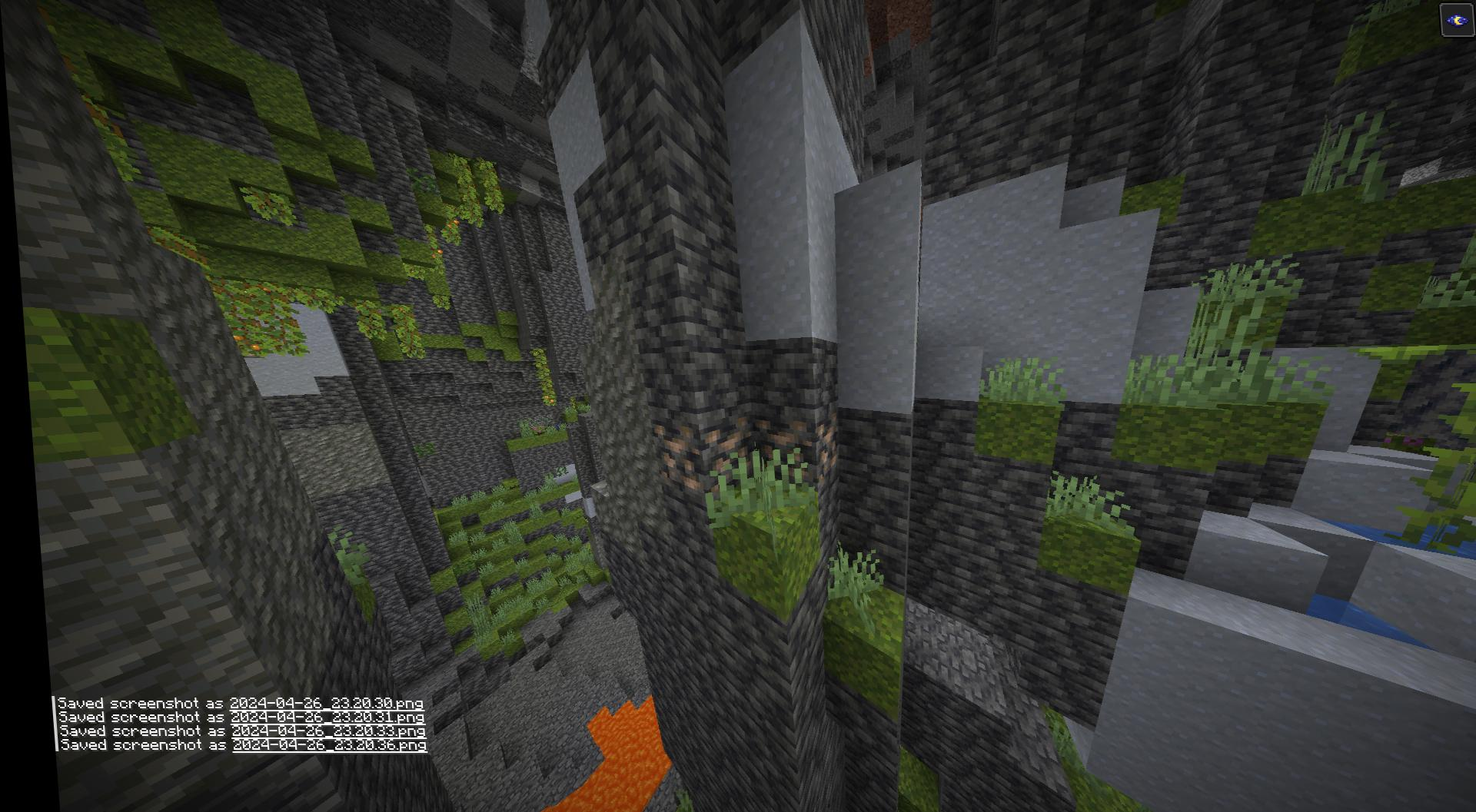iron ore: (695, 419, 750, 493), (752, 421, 811, 480), (649, 421, 694, 491), (804, 417, 835, 482)
